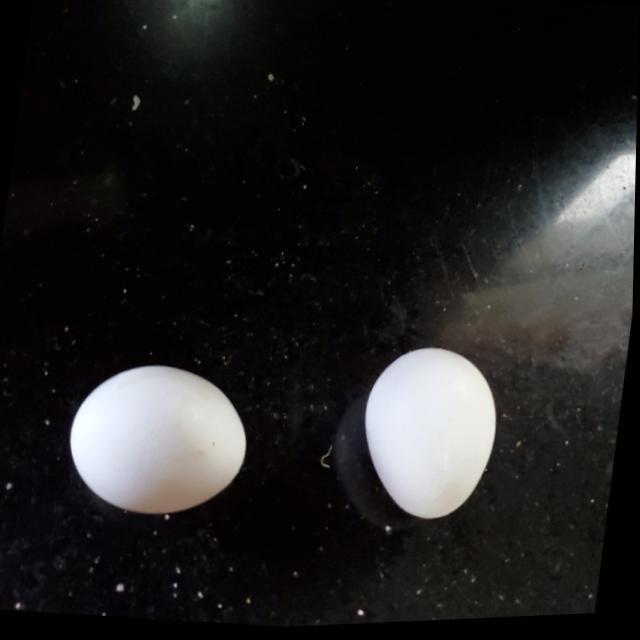egg: (58, 347, 257, 523), (351, 341, 510, 537)
